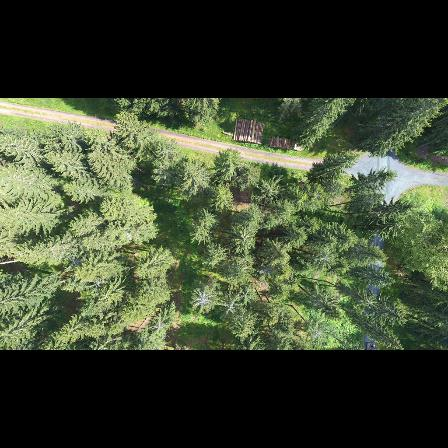Sick: (188, 283, 217, 312), (217, 292, 246, 318)
